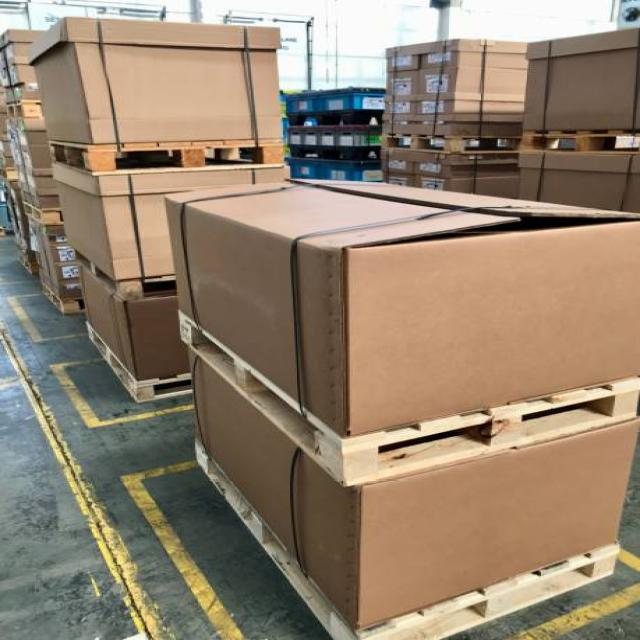Wooden-Pallets: (177, 317, 640, 487), (86, 136, 285, 176)
